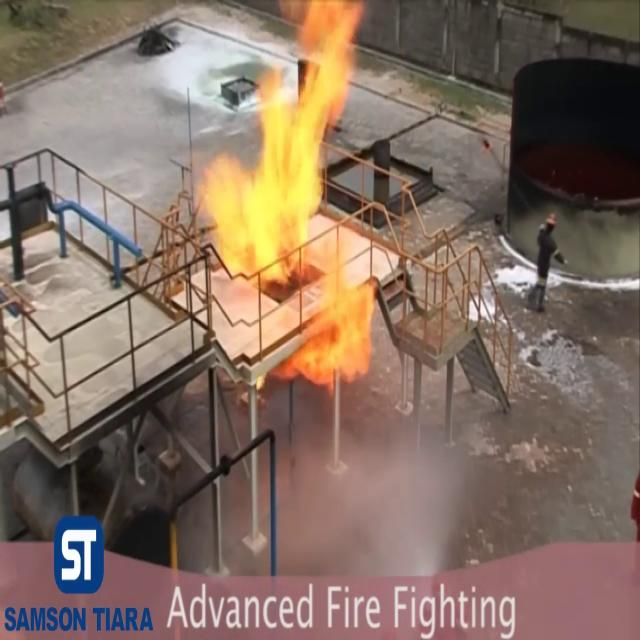Fire: (187, 0, 377, 389)
